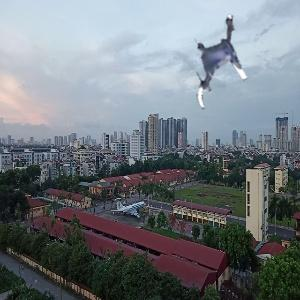drone: (176, 23, 265, 112)
